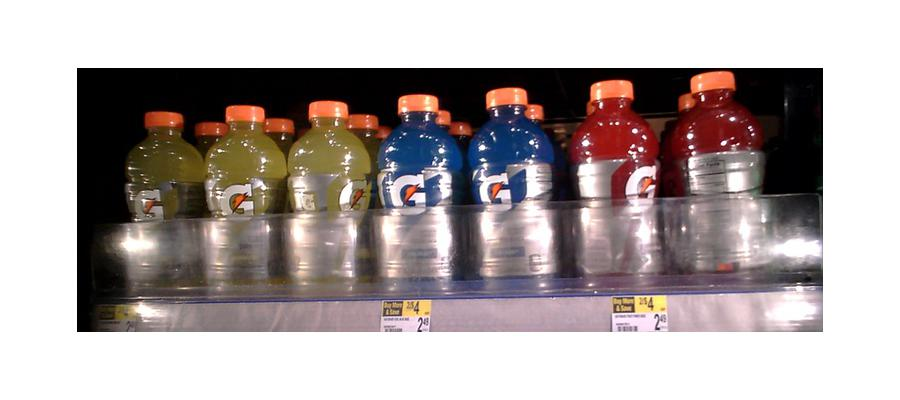bottle: (668, 65, 772, 285), (572, 80, 664, 289), (469, 84, 559, 295), (373, 91, 460, 296), (281, 103, 371, 297), (200, 105, 277, 296), (124, 109, 198, 296)
